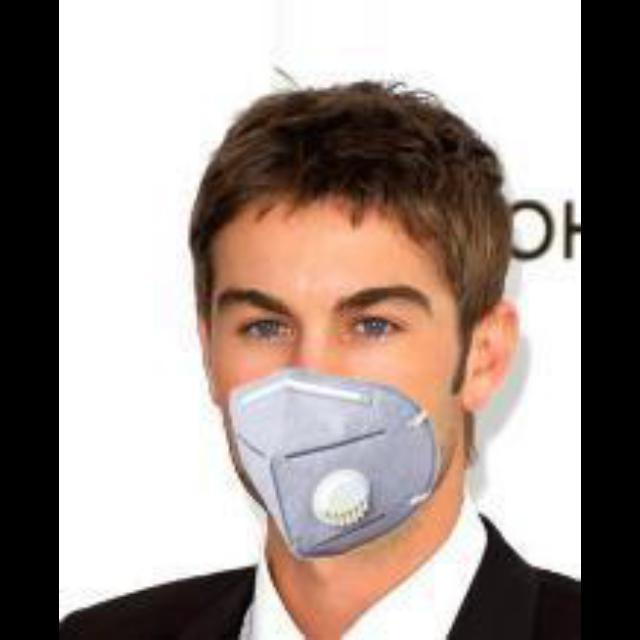suspicion: (201, 108, 515, 560)
